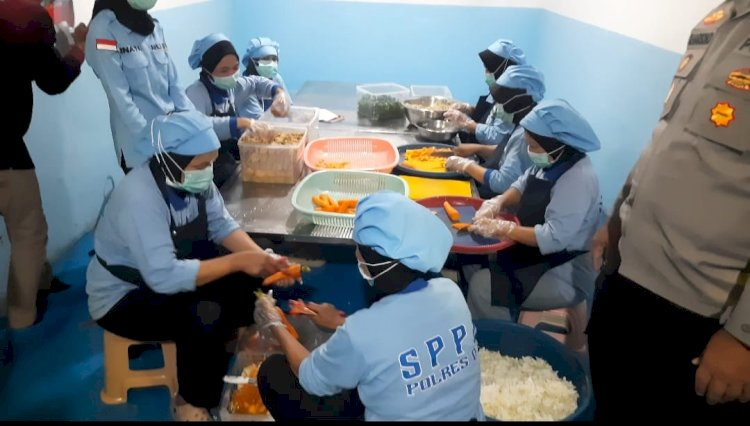mask: (160, 160, 224, 202), (515, 137, 575, 170), (484, 95, 530, 128), (200, 67, 244, 93), (476, 57, 511, 87), (247, 55, 280, 83)
